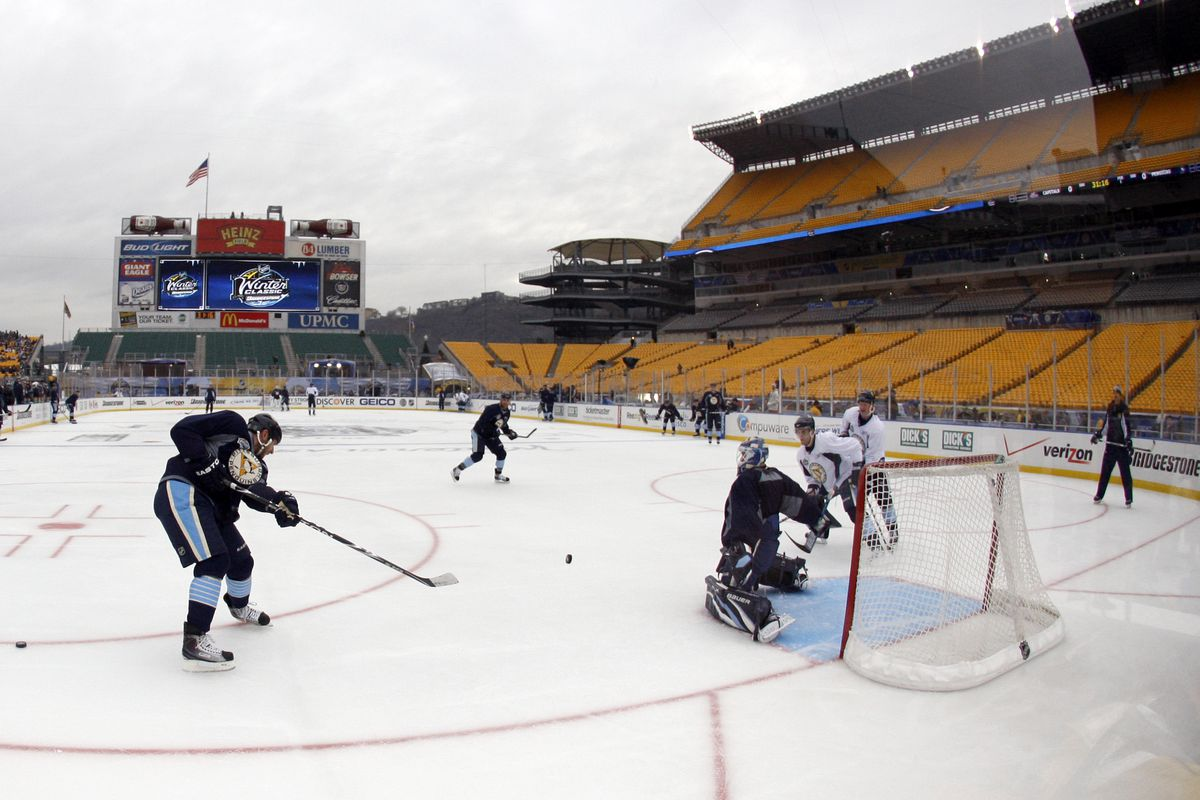geico: (354, 394, 397, 411)
